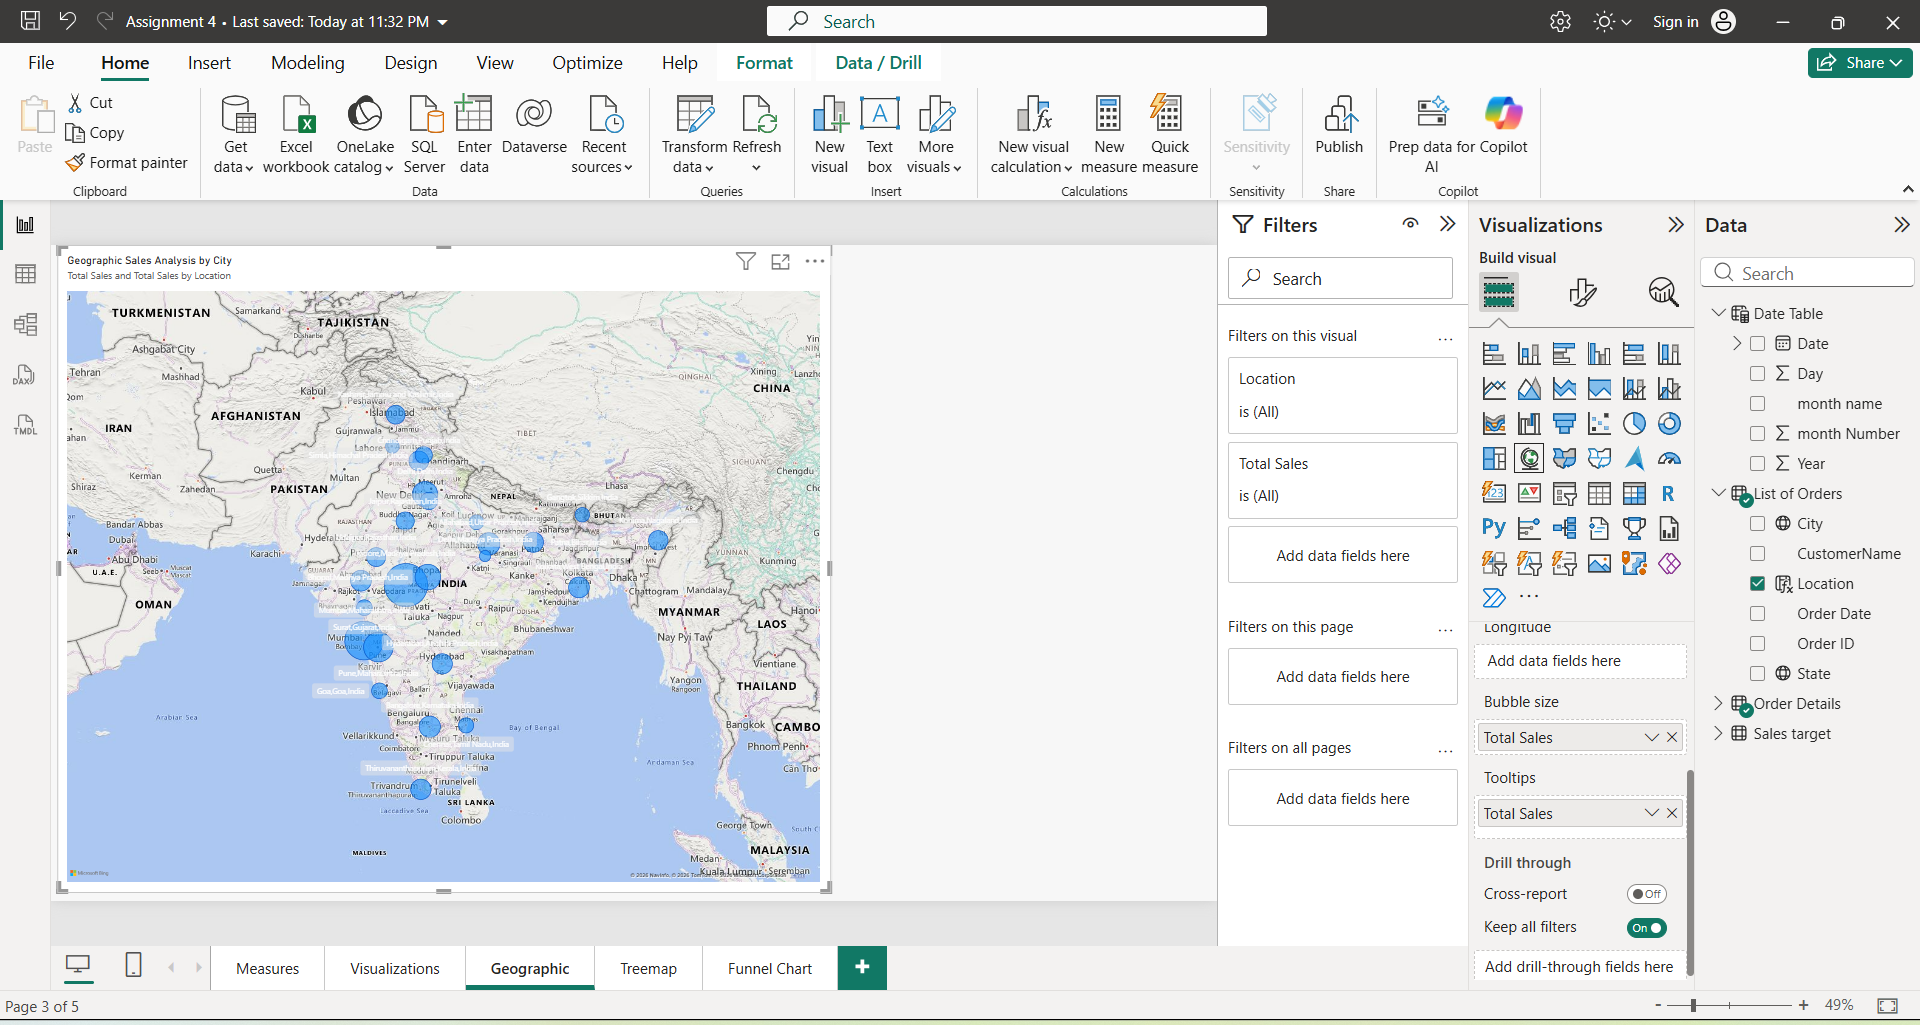

Layout of this report page (visuals, bound fields, positions):
{"tool":"powerbi","page":{"name":"Geographic","canvas":[1920,1080],"ordinal":2},"visuals":[{"type":"map","title":"Geographic Sales Analysis by City","fields":{"Category":["List of Orders.Full Location"],"Size":["Order Details.Total Sales"]},"box":[10.3,0,1274.1,1066.2],"z":0}]}

Visuals, with their boxes on the page's 1920x1080 design canvas (x1, y1, x2, y2). These are canvas units, not pixel positions in the 1920x1025 screenshot, which may show the page scaled, cropped or inside an application window:
"Geographic Sales Analysis by City" map: bbox=(10, 0, 1284, 1066)
